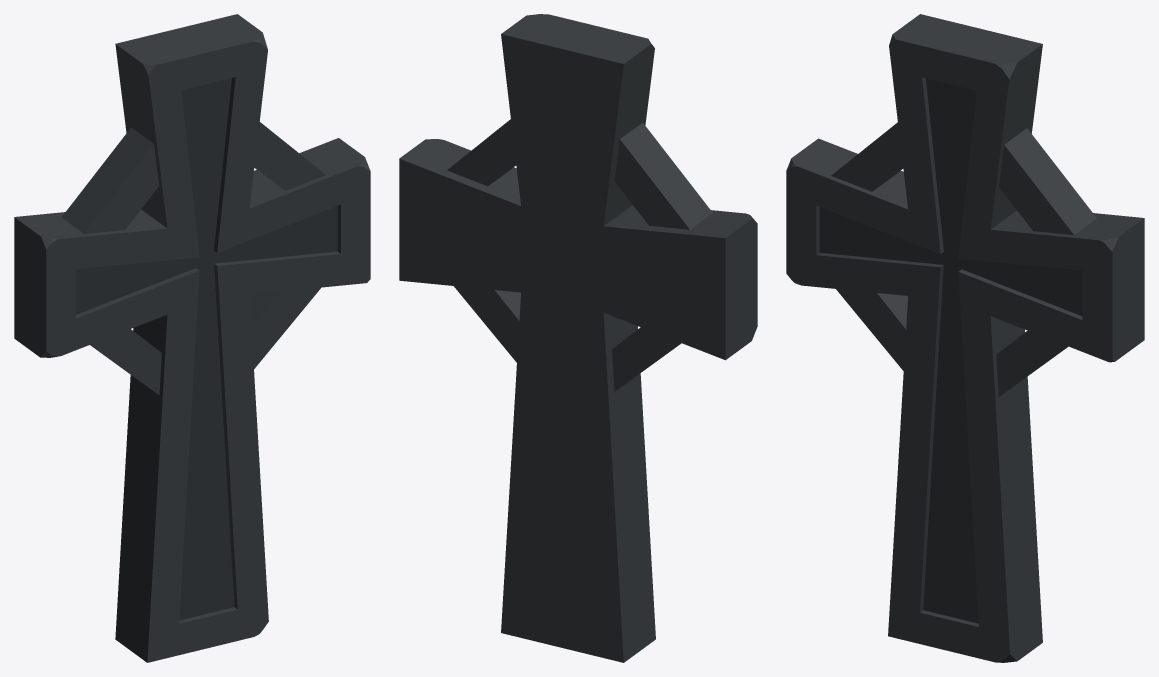
The model's file is Cross_02.glb.
3 views of the same model, side by side, from view 1: azimuth 30°, elevation 25°; view 2: azimuth 150°, elevation 25°; view 3: azimuth 330°, elevation 25° (orthographic).
Visible parts, largest first — view 1: Cross_02_LOD0; view 2: Cross_02_LOD0; view 3: Cross_02_LOD0.
Part boxes in pixels (x1=…): Cross_02_LOD0: x1=14, y1=14, x2=370, y2=662; Cross_02_LOD0: x1=399, y1=14, x2=757, y2=662; Cross_02_LOD0: x1=786, y1=14, x2=1144, y2=662.
Size of what is drawn, in the model's own units: 0.7 by 1.23 by 0.1196.
Materials: 1 (1 with a texture image).
